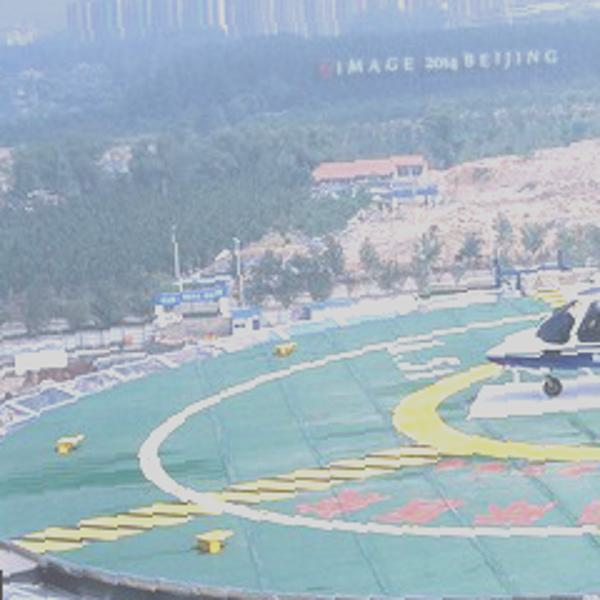Apron: (408, 346, 587, 475)
